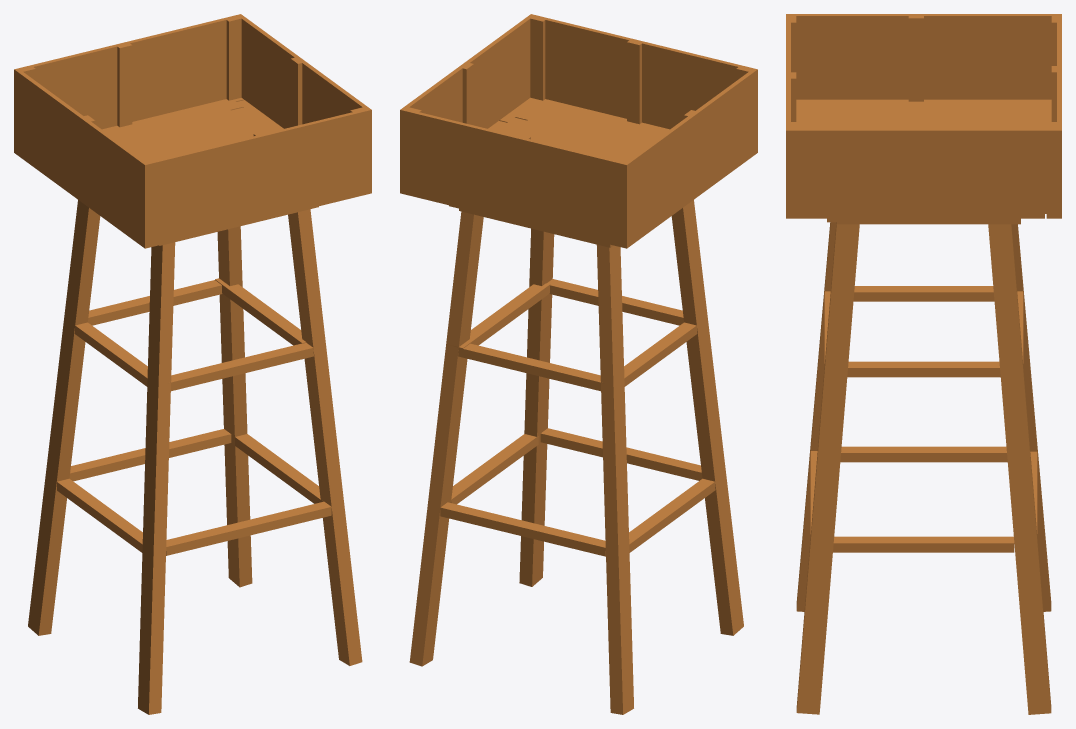
The model's file is WatchTower.fbx.
3 views of the same model, side by side, from view 1: azimuth 30°, elevation 25°; view 2: azimuth 150°, elevation 25°; view 3: azimuth 270°, elevation 25° (orthographic). The views are drawn at different scales.
Visible parts, largest first — view 1: woodplank_floor2, woodplank_floor9, woodplank_floor10, woodplank_floor1, woodplank_floor11, woodplank_floor14, woodplank_floor6, woodplank_floor12, G_3___plank13, G_3___plank16, G_3___plank7, G_3___plank4 (+49 smaller); view 2: woodplank_floor1, woodplank_floor10, woodplank_floor9, woodplank_floor2, woodplank_floor11, woodplank_floor14, woodplank_floor13, woodplank_floor3, G_3___plank4, G_3___plank7, G_3___plank16, G_3___plank13 (+53 smaller); view 3: woodplank_floor13, woodplank_floor12, woodplank_floor14, woodplank_floor11, G_3___plank36, G_3___plank39, G_3___plank48, G_3___plank45, G_3___plank42, G_3___plank33, woodplank_floor4, woodplank_floor5 (+26 smaller).
Part boxes in pixels (x1,y1,x2,y2): woodplank_floor2: [142, 132, 270, 244]; woodplank_floor9: [246, 108, 371, 219]; woodplank_floor10: [115, 20, 226, 119]; woodplank_floor1: [14, 45, 142, 129]; woodplank_floor11: [72, 121, 149, 233]; woodplank_floor14: [14, 79, 90, 190]; woodplank_floor6: [130, 97, 265, 155]; woodplank_floor12: [238, 14, 309, 128]; G_3___plank13: [142, 379, 162, 549]; G_3___plank16: [138, 544, 157, 714]; G_3___plank7: [28, 471, 60, 635]; G_3___plank4: [46, 316, 77, 480]; woodplank_floor1: [501, 139, 629, 237]; woodplank_floor10: [400, 114, 528, 213]; woodplank_floor9: [529, 14, 654, 125]; woodplank_floor2: [630, 38, 757, 148]; woodplank_floor11: [685, 69, 757, 201]; woodplank_floor14: [622, 111, 699, 243]; woodplank_floor13: [458, 24, 530, 128]; woodplank_floor3: [492, 101, 653, 149]; G_3___plank4: [609, 379, 629, 549]; G_3___plank7: [614, 544, 633, 714]; G_3___plank16: [711, 471, 743, 635]; G_3___plank13: [694, 316, 725, 480]; woodplank_floor13: [786, 128, 939, 213]; woodplank_floor12: [908, 128, 1061, 213]; woodplank_floor14: [908, 14, 1051, 99]; woodplank_floor11: [786, 14, 939, 99]; G_3___plank36: [810, 368, 847, 542]; G_3___plank39: [796, 541, 833, 714]; G_3___plank48: [1014, 541, 1051, 714]; G_3___plank45: [1000, 370, 1037, 543]; G_3___plank42: [988, 224, 1023, 371]; G_3___plank33: [825, 222, 859, 371]; woodplank_floor4: [878, 99, 969, 128]; woodplank_floor5: [970, 99, 1051, 128].
Bounding box in the file's own units: 216 × 508 × 216.
